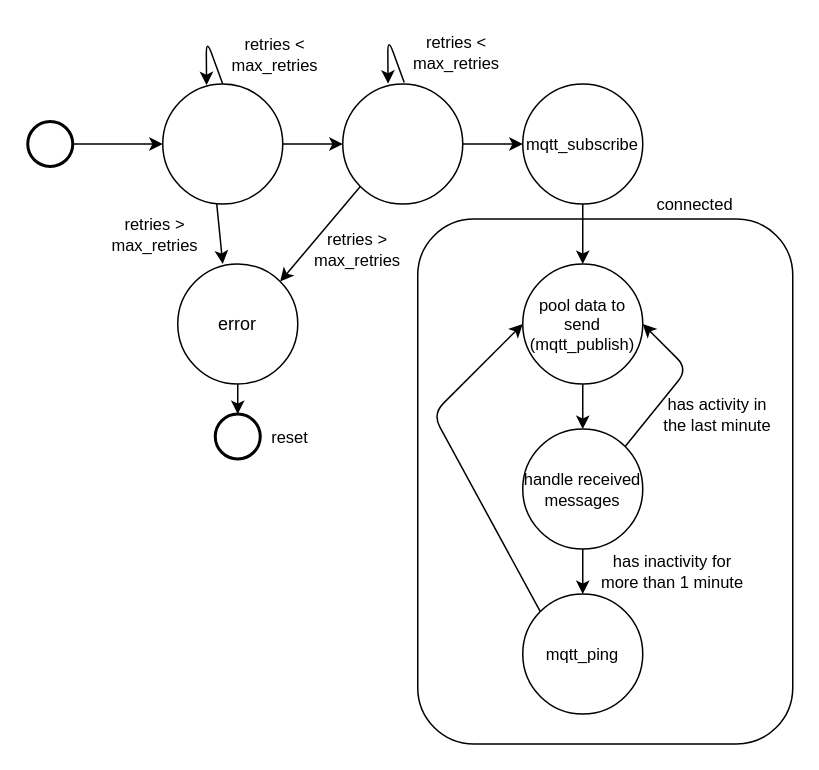
This 819x770 diagram has some shape labels left out. The shapes that lost their labels are listed below. From the top down, each one's centre as x and y in pixels, then its label:
At (222,143): "tcp_connect".
At (402,143): "mqtt_connect".
